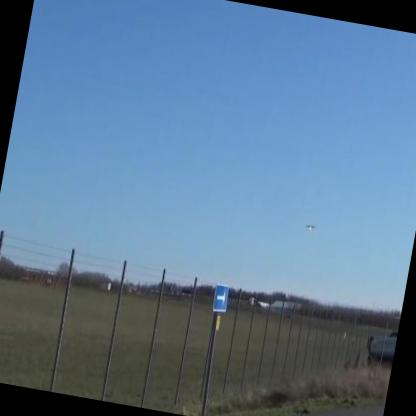plane: (302, 223, 320, 240)
